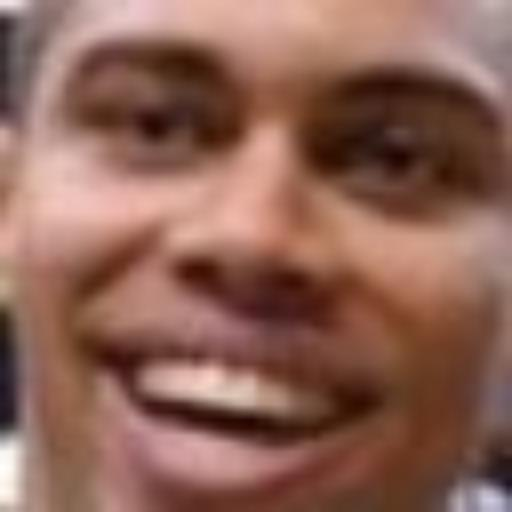left_eye: (344, 114, 465, 196)
left_lip_corner: (350, 373, 408, 430)
right_eye: (86, 99, 222, 163)
right_lip_corner: (72, 319, 151, 400)
